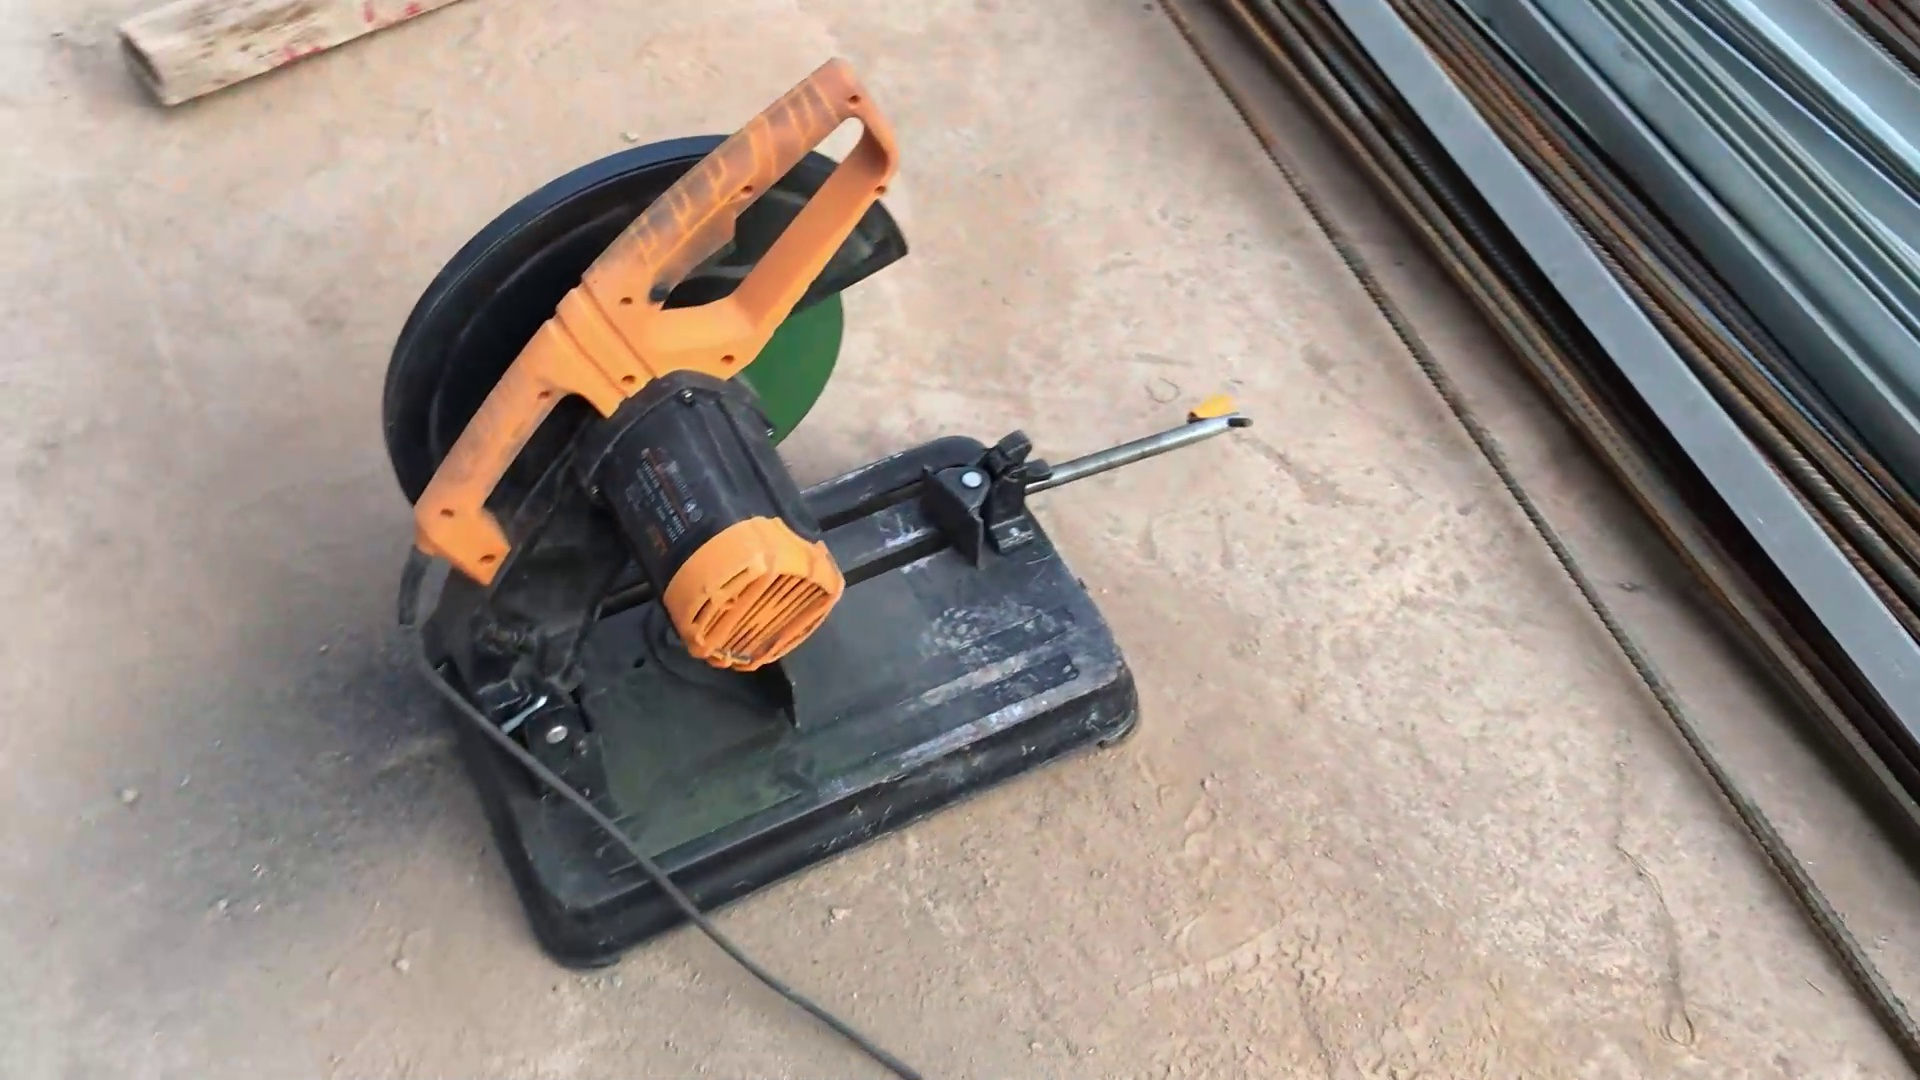cutter: (322, 62, 1317, 997)
